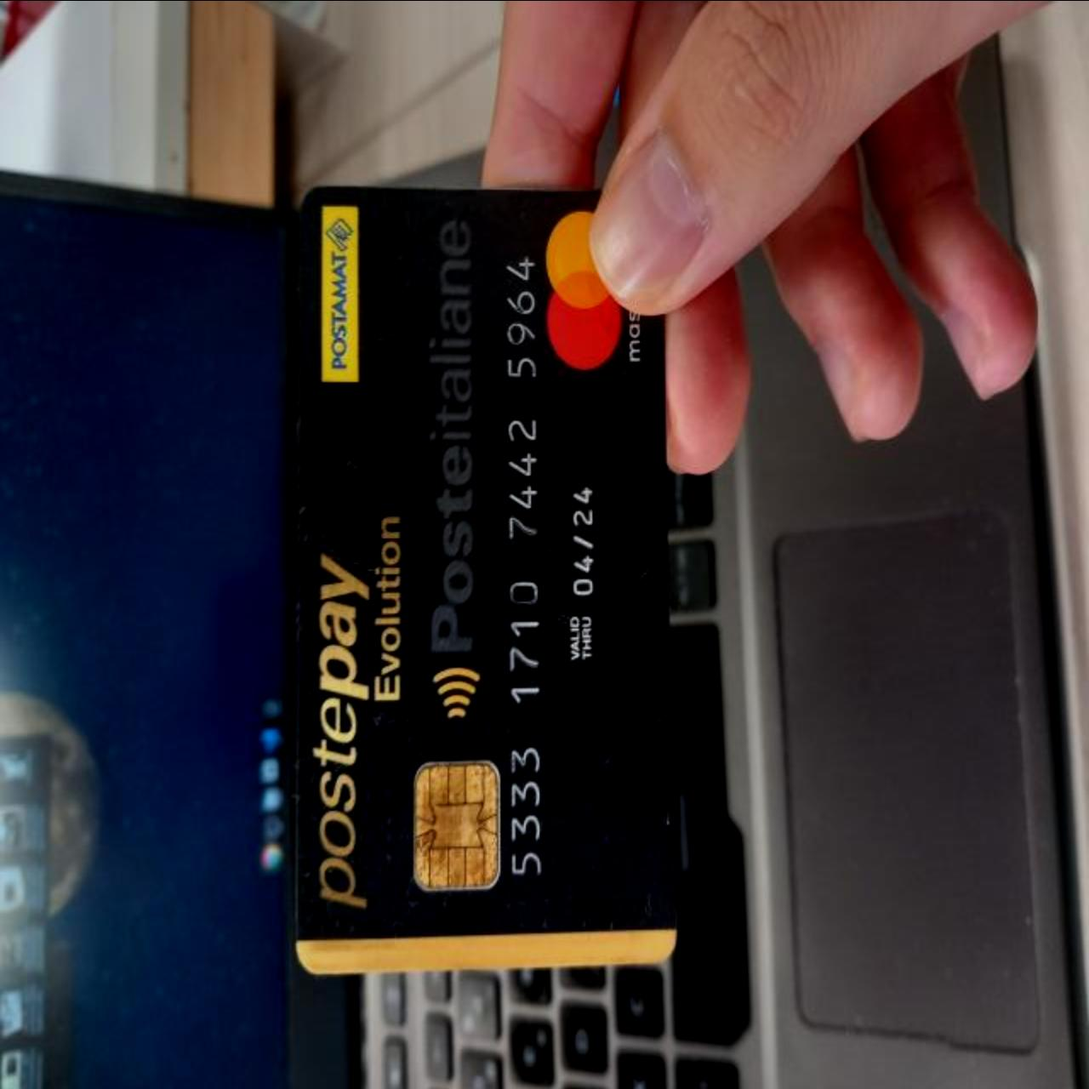credit_card: (293, 174, 684, 984)
